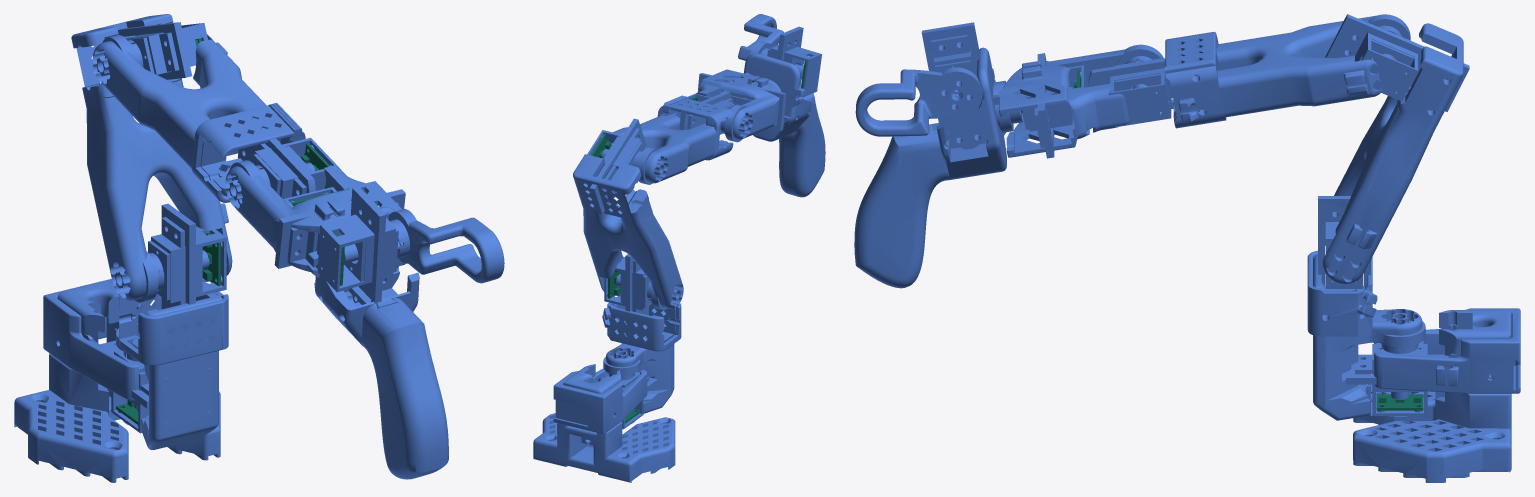
The model's file is so101-leader.glb.
3 renders of one model, left to right at view 1: azimuth 30°, elevation 25°; view 2: azimuth 150°, elevation 25°; view 3: azimuth 270°, elevation 25°, orthographic. The views are drawn at different scales.
Parts seen in each view (by area): view 1: leader_upper_arm_link:leader_print, leader_gripper_link:leader_print, leader_base_link:leader_print, leader_lower_arm_link:leader_print, leader_shoulder_link:leader_print, leader_wrist_link:leader_print, leader_moving_jaw_so101_v1_link:leader_print, leader_shoulder_link:pcb; view 2: leader_base_link:leader_print, leader_upper_arm_link:leader_print, leader_gripper_link:leader_print, leader_shoulder_link:leader_print, leader_lower_arm_link:leader_print, leader_wrist_link:leader_print, leader_moving_jaw_so101_v1_link:leader_print; view 3: leader_base_link:leader_print, leader_lower_arm_link:leader_print, leader_upper_arm_link:leader_print, leader_gripper_link:leader_print, leader_shoulder_link:leader_print, leader_wrist_link:leader_print, leader_moving_jaw_so101_v1_link:leader_print, leader_base_link:pcb.
Part boxes in pixels (left/top/right/bottom): leader_upper_arm_link:leader_print: left=71, top=14, right=232, bottom=302; leader_gripper_link:leader_print: left=307, top=186, right=448, bottom=479; leader_base_link:leader_print: left=14, top=278, right=220, bottom=482; leader_lower_arm_link:leader_print: left=92, top=34, right=338, bottom=202; leader_shoulder_link:leader_print: left=116, top=203, right=228, bottom=449; leader_wrist_link:leader_print: left=225, top=160, right=405, bottom=271; leader_moving_jaw_so101_v1_link:leader_print: left=344, top=209, right=504, bottom=283; leader_shoulder_link:pcb: left=202, top=233, right=220, bottom=286; leader_base_link:leader_print: left=533, top=364, right=675, bottom=482; leader_upper_arm_link:leader_print: left=573, top=118, right=683, bottom=309; leader_gripper_link:leader_print: left=743, top=26, right=825, bottom=197; leader_shoulder_link:leader_print: left=602, top=254, right=681, bottom=423; leader_lower_arm_link:leader_print: left=601, top=91, right=734, bottom=184; leader_wrist_link:leader_print: left=696, top=69, right=786, bottom=142; leader_moving_jaw_so101_v1_link:leader_print: left=738, top=14, right=803, bottom=78; leader_base_link:leader_print: left=1346, top=308, right=1520, bottom=482; leader_lower_arm_link:leader_print: left=1088, top=14, right=1410, bottom=128; leader_upper_arm_link:leader_print: left=1322, top=14, right=1469, bottom=284; leader_gripper_link:leader_print: left=854, top=22, right=1073, bottom=288; leader_shoulder_link:leader_print: left=1307, top=196, right=1425, bottom=420; leader_wrist_link:leader_print: left=992, top=44, right=1163, bottom=158; leader_moving_jaw_so101_v1_link:leader_print: left=855, top=67, right=982, bottom=136; leader_base_link:pcb: left=1376, top=394, right=1423, bottom=410.
Bounding box in the file's own units: 0.1109 × 0.2585 × 0.3647.
